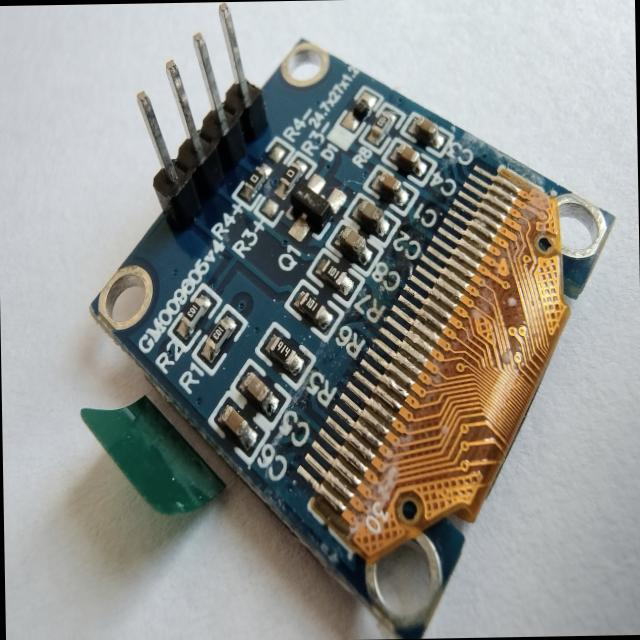oled: (73, 0, 619, 640)
